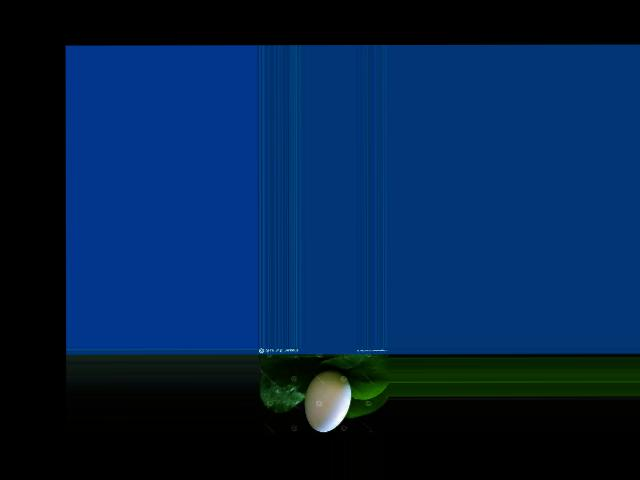egg: (304, 369, 351, 431)
